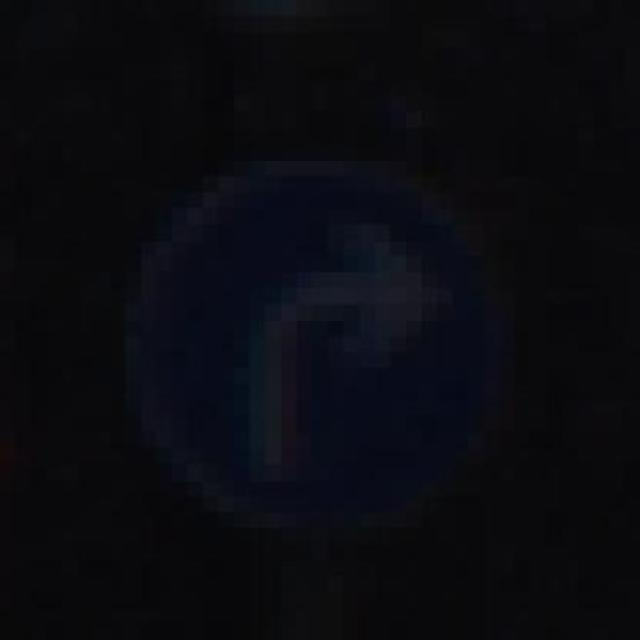Turn right ahead: (93, 128, 578, 544)
